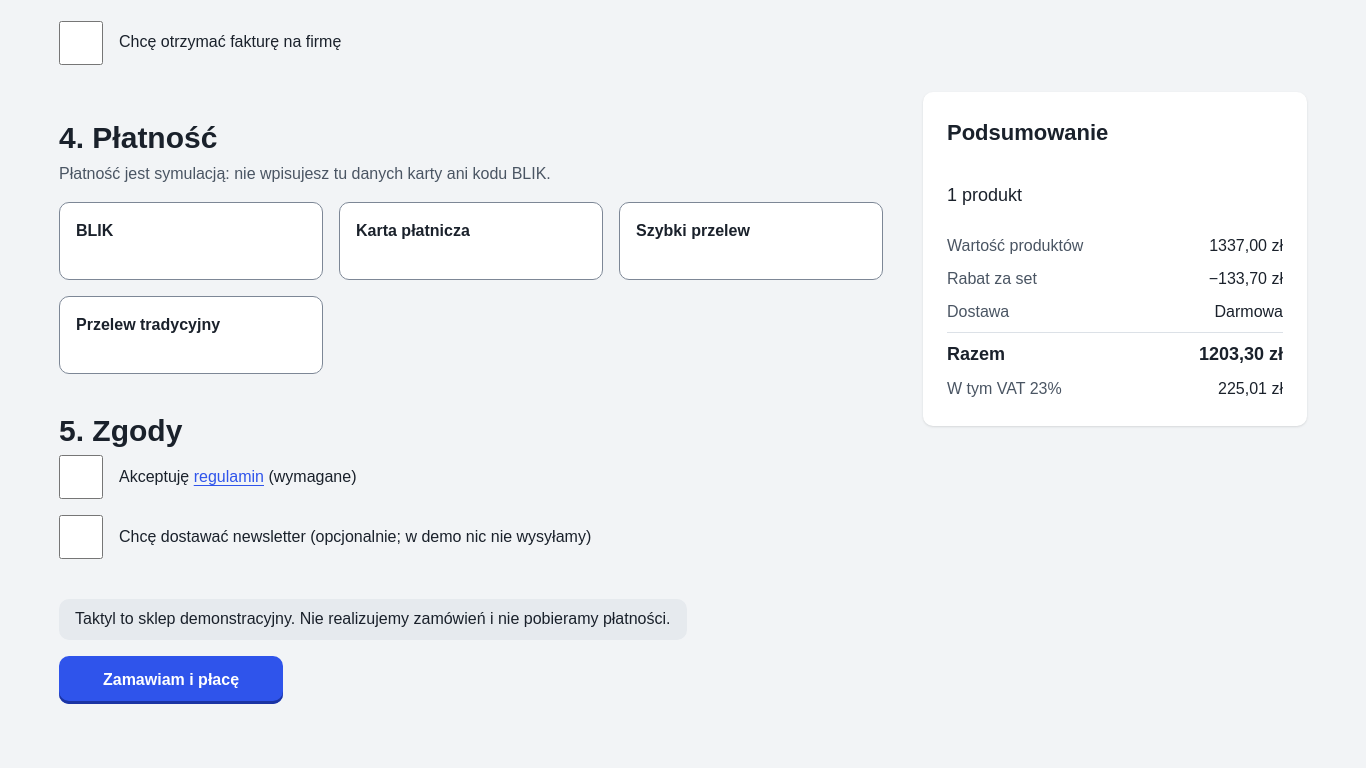
it: walidacja (F-174, S18) › wysylka pustego formularza: fokus na pierwszym bledzie (e-mail), zamowienie nie idzie do API
The width and height of the screenshot is (1366, 768).
(page scrolled)
Expected: the text with test id "zamowienie-razem" reads "1203,30 zł", [1199,344,1283,364]
Click the button "Zamawiam i płacę" at (171, 680), box [59,656,283,704]
(page scrolled)
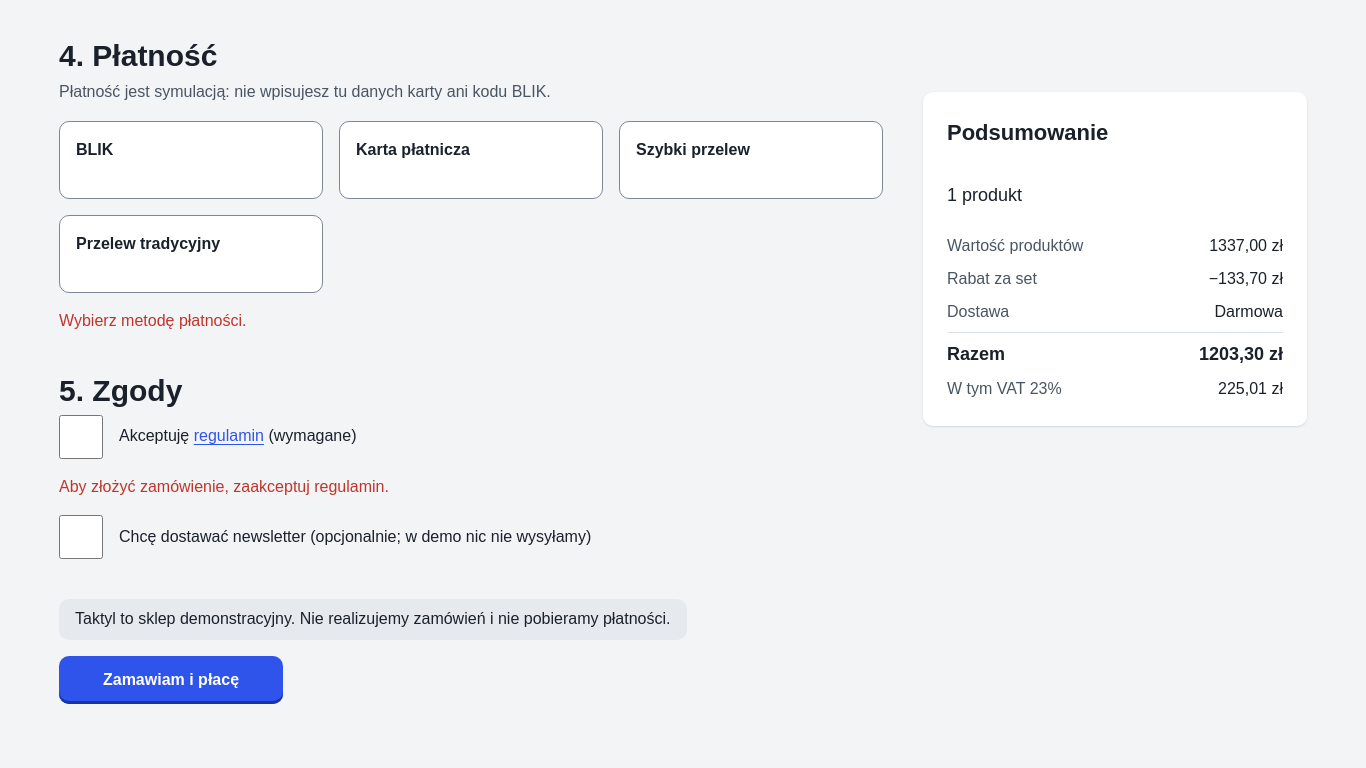
Result: the text "Wybierz metodę płatności." is shown at [59,312,246,329]
Result: the text "Aby złożyć zamówienie, zaakceptuj regulamin." is shown at [59,478,389,495]
